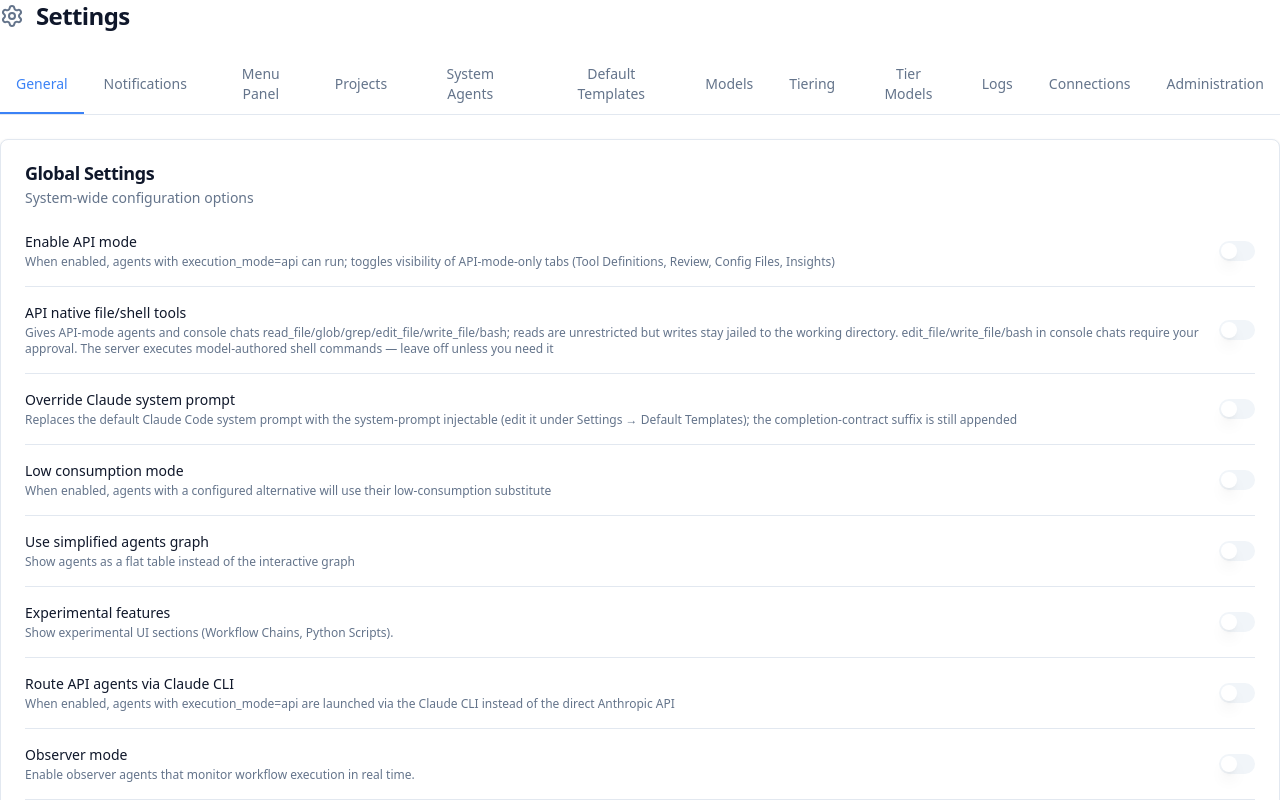
Scenario: SettingsPage - use_git_worktrees toggle › Display mode › does not show worktrees info when use_git_worktrees is false
This screenshot has width=1280, height=800.
What coordinates should you click on to do the following:
click the button "Projects"
I would click on:
 (361, 85)
Its box is [319,56,403,114].
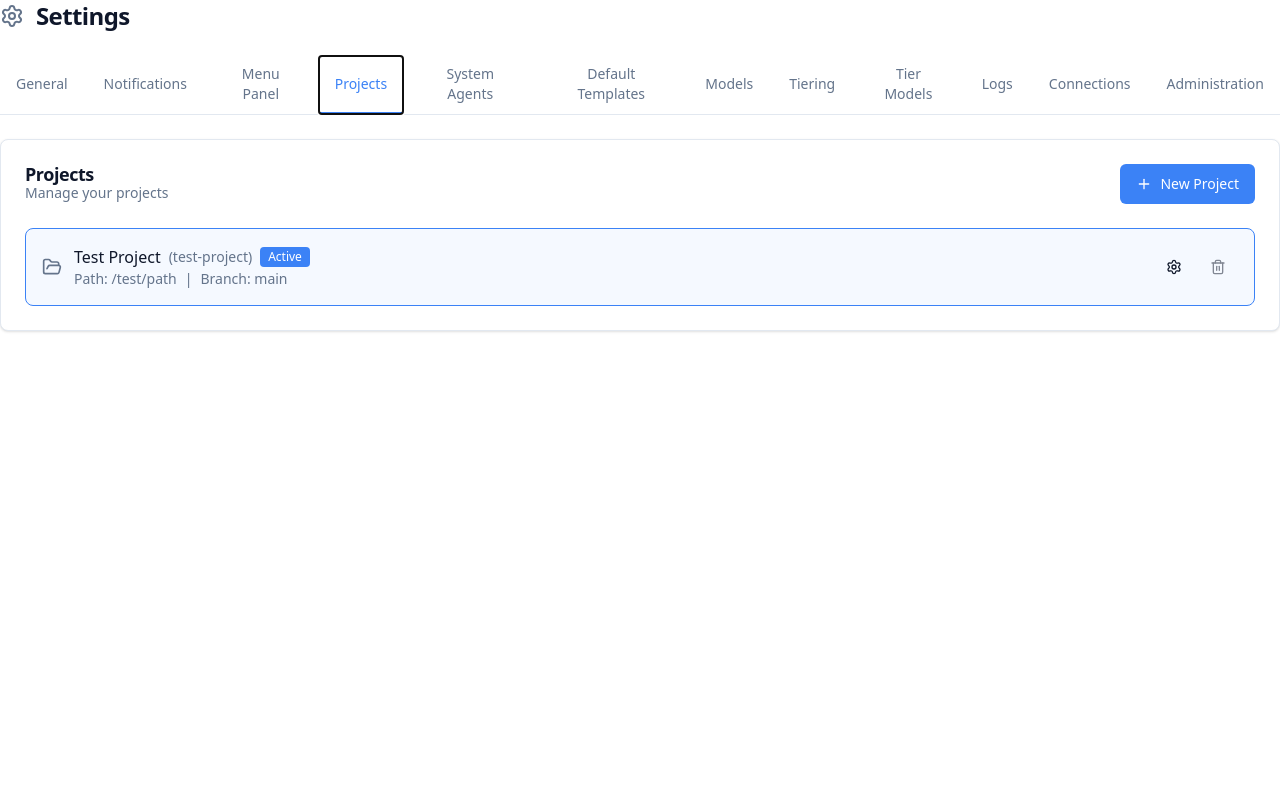
Expected: the text "Test Project" is shown, [74,245,161,269]
